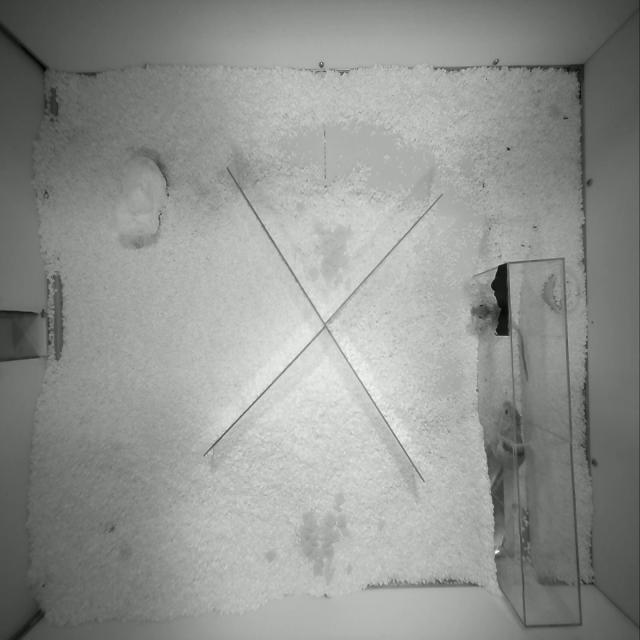adult_back: (471, 305, 522, 341), (520, 342, 528, 379)
adult_front: (491, 402, 524, 492)
